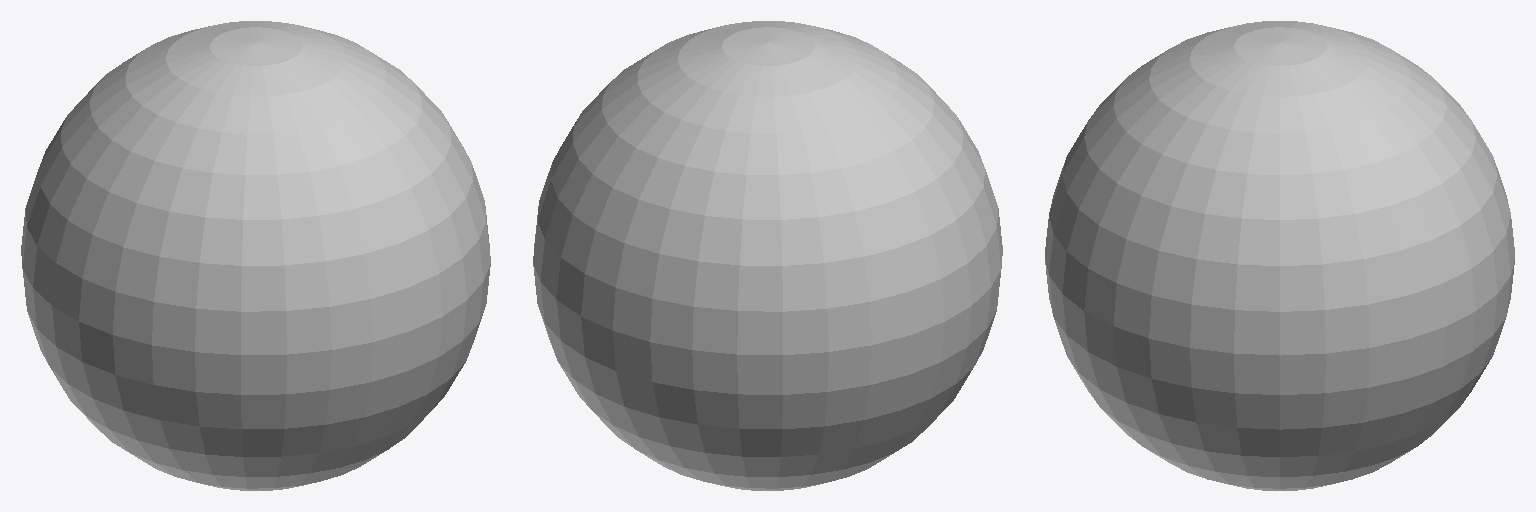
File: cornell3_sphere2_07.obj
The picture shows the model from 3 angles: view 1: azimuth 30°, elevation 25°; view 2: azimuth 150°, elevation 25°; view 3: azimuth 270°, elevation 25°; orthographic projection.
Visible parts, largest first — view 1: Sphere; view 2: Sphere; view 3: Sphere.
Part boxes in pixels (left/top/right/bottom): Sphere: left=21, top=21, right=490, bottom=490; Sphere: left=533, top=21, right=1002, bottom=490; Sphere: left=1045, top=21, right=1514, bottom=490.
Size of the model in its own units: 0.398 by 0.398 by 0.398.